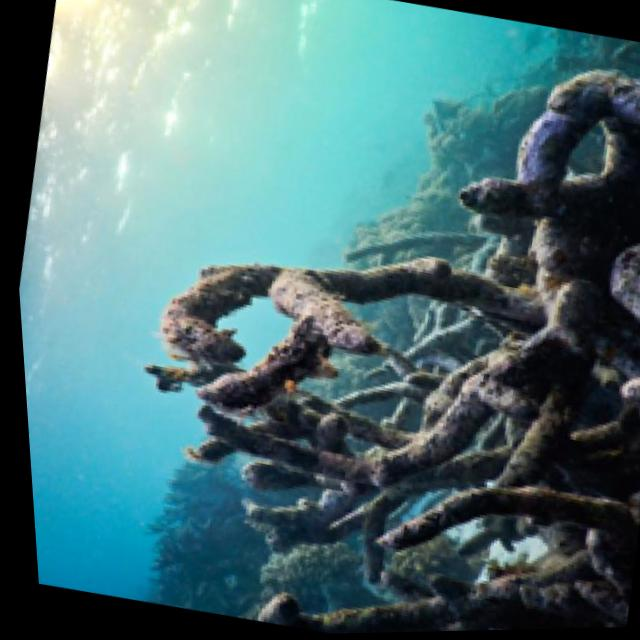Dead Coral: (68, 0, 640, 639)
